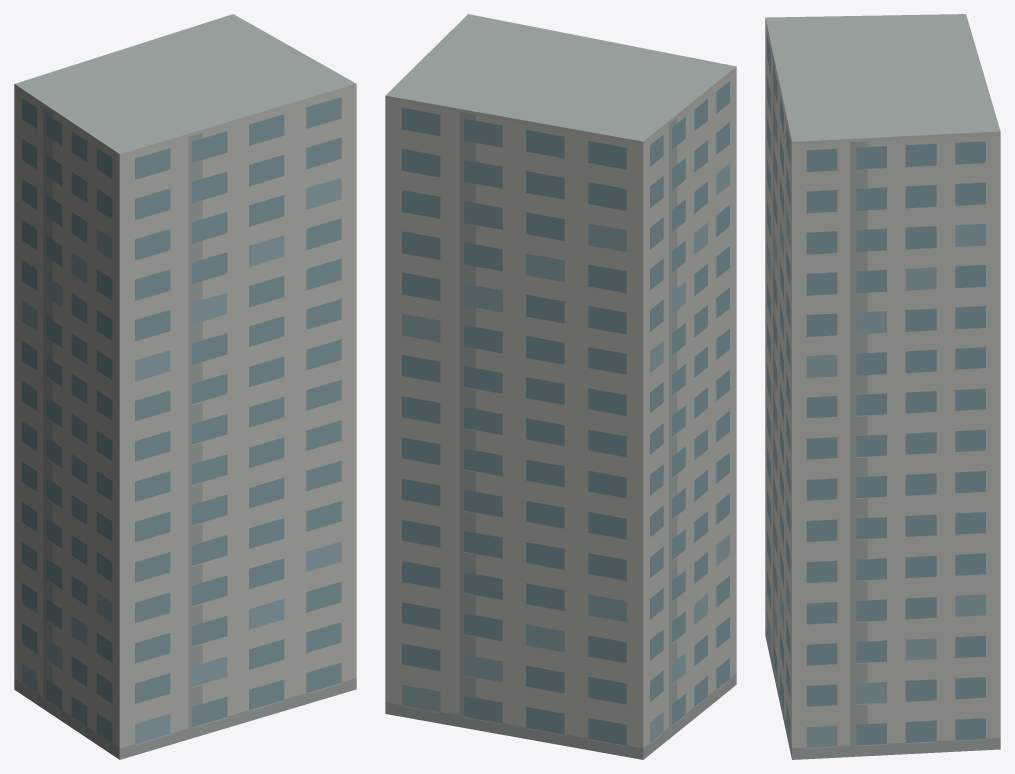
The model's file is residential-f2cdc688-8a77-4e7e-bc7b-3bc1058e48ee.glb.
3 renders of one model, left to right at view 1: azimuth 30°, elevation 25°; view 2: azimuth 150°, elevation 25°; view 3: azimuth 270°, elevation 25°, orthographic. The views are drawn at different scales.
Visible parts, largest first — view 1: residential-f2cdc688-8a77-4e7e-bc7b-3bc1058e48ee.tmp; view 2: residential-f2cdc688-8a77-4e7e-bc7b-3bc1058e48ee.tmp; view 3: residential-f2cdc688-8a77-4e7e-bc7b-3bc1058e48ee.tmp.
Part boxes in pixels (box(x1,y1,x2,y2)): residential-f2cdc688-8a77-4e7e-bc7b-3bc1058e48ee.tmp: box(14, 14, 356, 759); residential-f2cdc688-8a77-4e7e-bc7b-3bc1058e48ee.tmp: box(385, 14, 736, 759); residential-f2cdc688-8a77-4e7e-bc7b-3bc1058e48ee.tmp: box(765, 14, 1000, 759).
Size of the model in its own units: 20.42 by 46 by 15.87.
